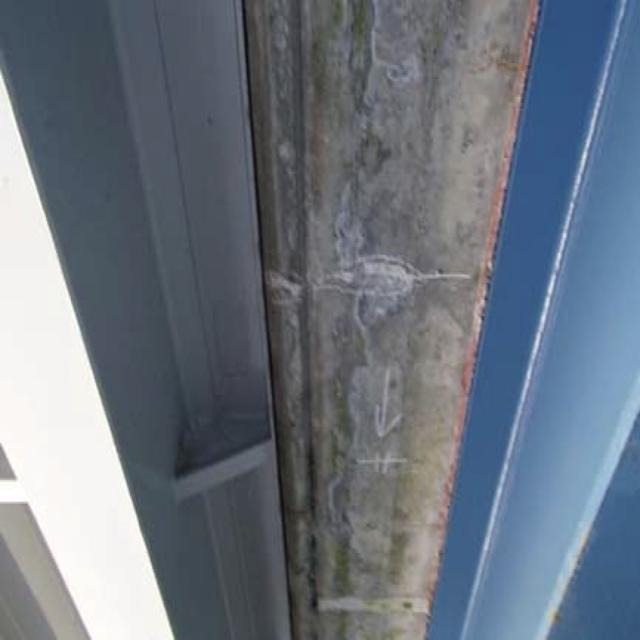freelime: (297, 220, 450, 310)
leakage: (280, 427, 346, 627)
